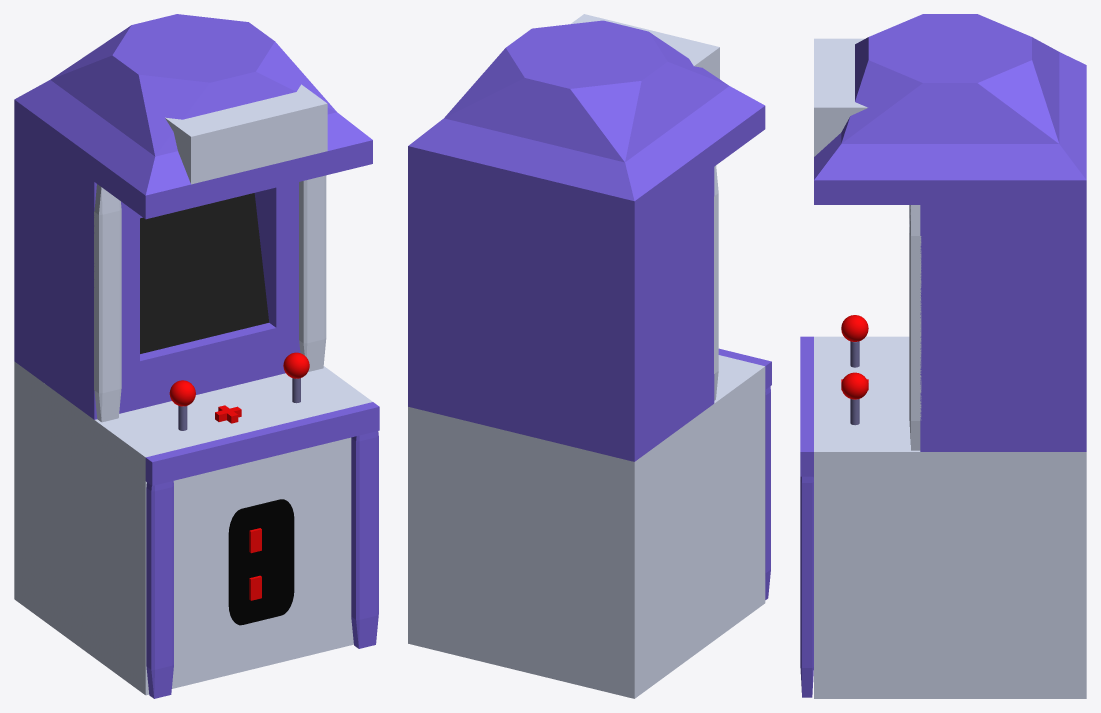
File: ArcadeMachineSpaceship.fbx
3 renders of one model, left to right at view 1: azimuth 30°, elevation 25°; view 2: azimuth 150°, elevation 25°; view 3: azimuth 270°, elevation 25°, orthographic. The views are drawn at different scales.
Visible parts, largest first — view 1: mergedBlocks; view 2: mergedBlocks; view 3: mergedBlocks.
Part boxes in pixels (<box>): mergedBlocks: <box>14,14,379,698</box>; mergedBlocks: <box>408,14,771,698</box>; mergedBlocks: <box>800,14,1086,698</box>.
Bounding box in the file's own units: 15 × 36 × 15.75.
